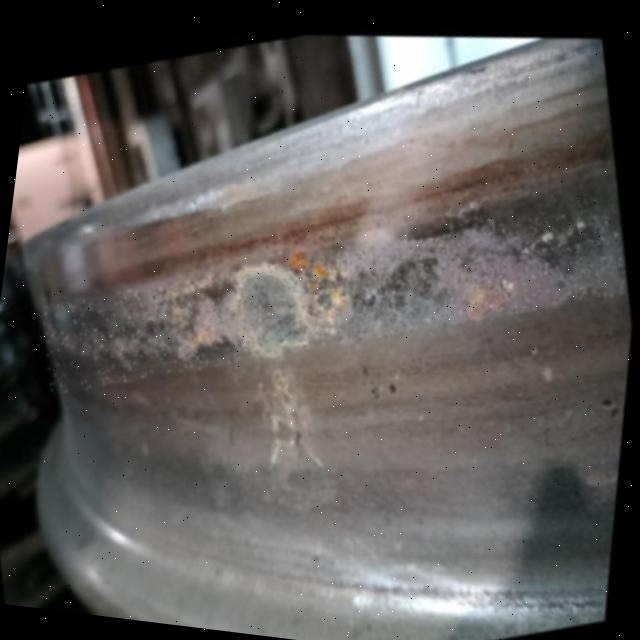Rollerpile: (4, 155, 573, 415)
